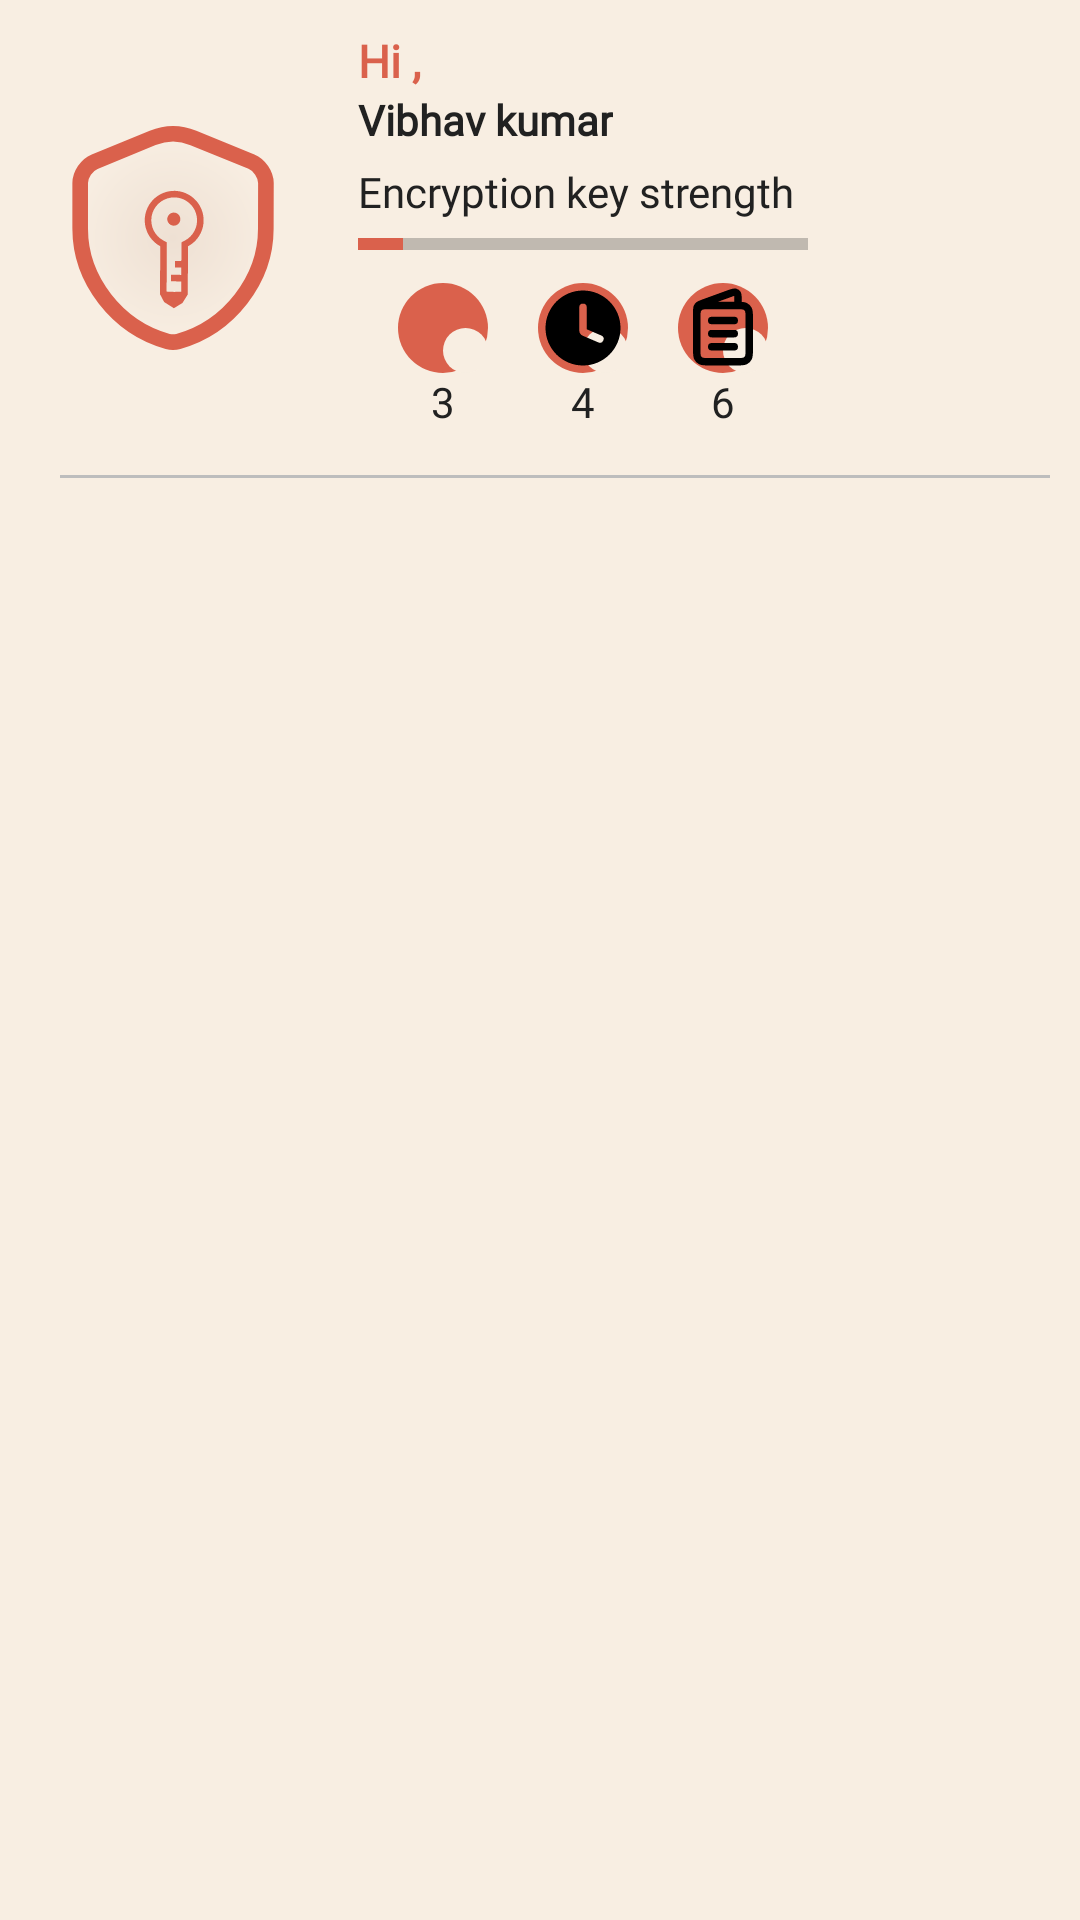

Named icons in this screenshot (1080*1920) and their centers, point (x, y):
recent: point (583, 328)
